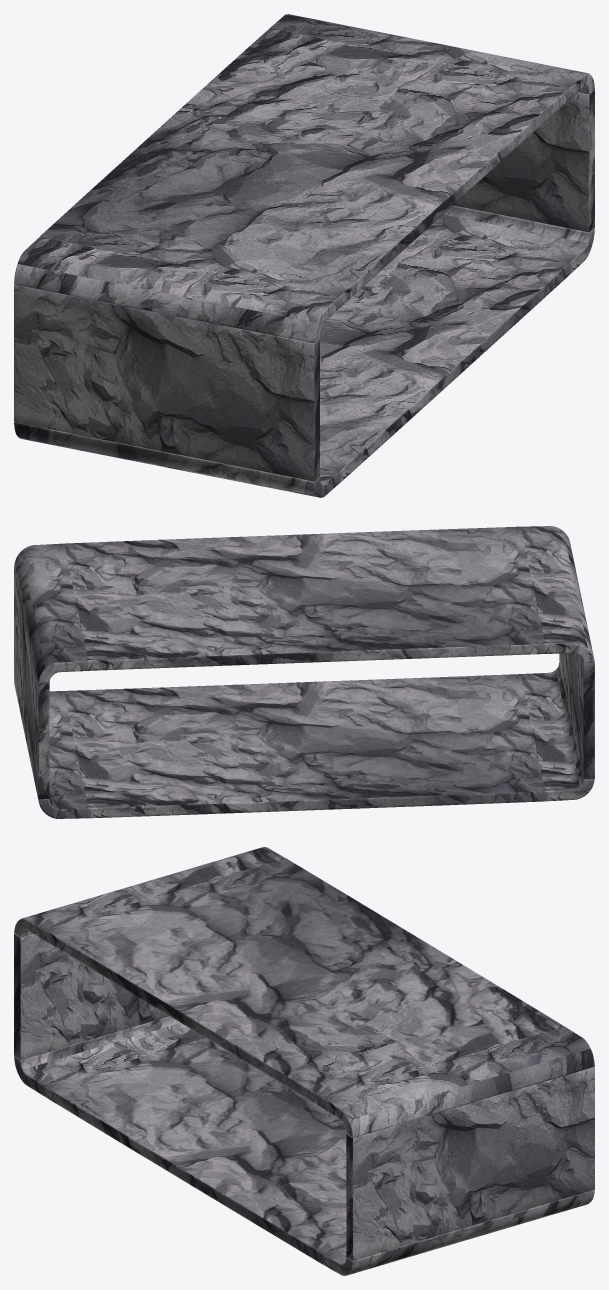
File: Mesa.obj
3 renders of one model, top to bottom at view 1: azimuth 30°, elevation 25°; view 2: azimuth 150°, elevation 25°; view 3: azimuth 270°, elevation 25°, orthographic. The views are drawn at different scales.
Visible parts, largest first — view 1: Center_Table:Object001, Center_Table:Plane001; view 2: Center_Table:Object001, Center_Table:Plane001; view 3: Center_Table:Object001, Center_Table:Plane001.
Boxes of the visible parts, box(x1,y1,x2,y2) form: Center_Table:Object001: box(14, 14, 594, 497); Center_Table:Plane001: box(14, 90, 594, 481); Center_Table:Object001: box(14, 526, 594, 818); Center_Table:Plane001: box(14, 567, 594, 799); Center_Table:Object001: box(14, 847, 594, 1275); Center_Table:Plane001: box(14, 933, 594, 1260).
Size of the model in its own units: 1.35 by 0.4064 by 1.2.
Materials: 1 (1 with a texture image).
